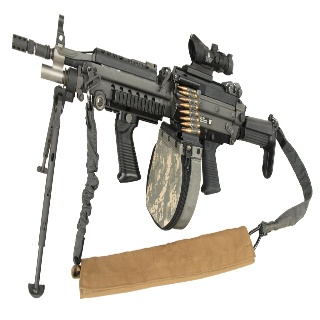rifle: (9, 12, 279, 233)
